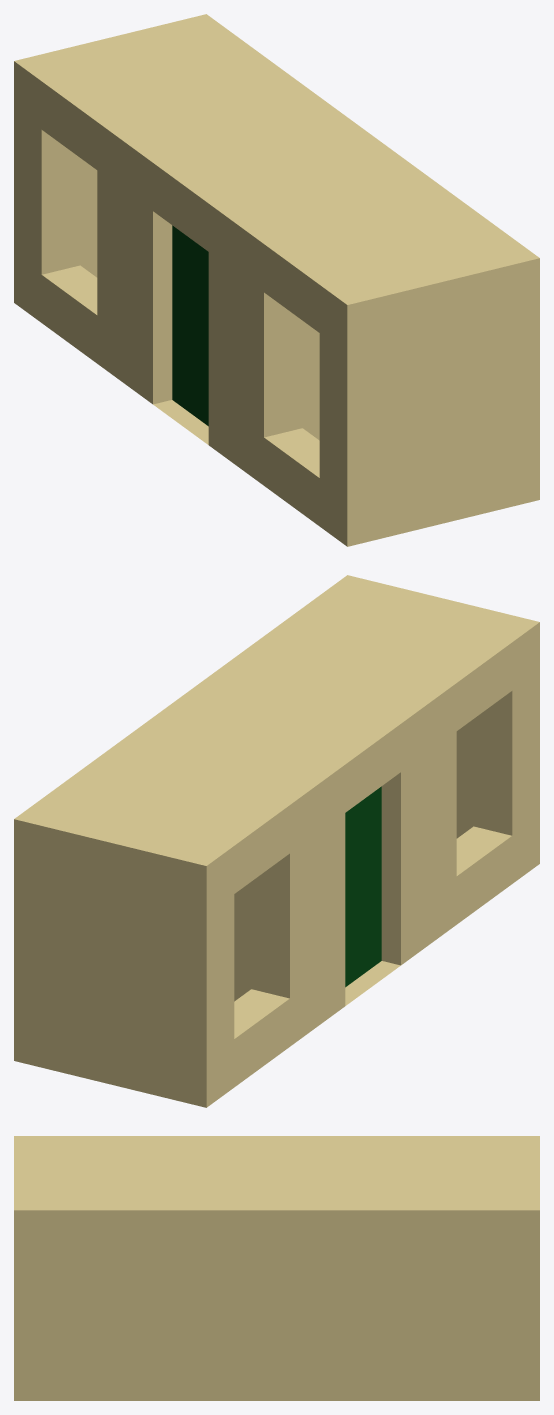
The model's file is FirstFloorWindowed.fbx.
3 renders of one model, top to bottom at view 1: azimuth 30°, elevation 25°; view 2: azimuth 150°, elevation 25°; view 3: azimuth 270°, elevation 25°, orthographic. The views are drawn at different scales.
Parts seen in each view (by area): view 1: window block.001, door block.001, window block.002; view 2: window block.002, door block.001, window block.001; view 3: door block.001, window block.001, window block.002.
Boxes of the visible parts, x1,y1,x2,y2 form: window block.001: [236, 177, 539, 546]; door block.001: [125, 95, 428, 464]; window block.002: [14, 14, 317, 383]; window block.002: [14, 738, 317, 1107]; door block.001: [125, 656, 428, 1025]; window block.001: [236, 575, 539, 944]; door block.001: [189, 1136, 364, 1400]; window block.001: [14, 1136, 189, 1400]; window block.002: [364, 1136, 539, 1400].
Size of the model in its own units: 1000 by 1200 by 3000.
